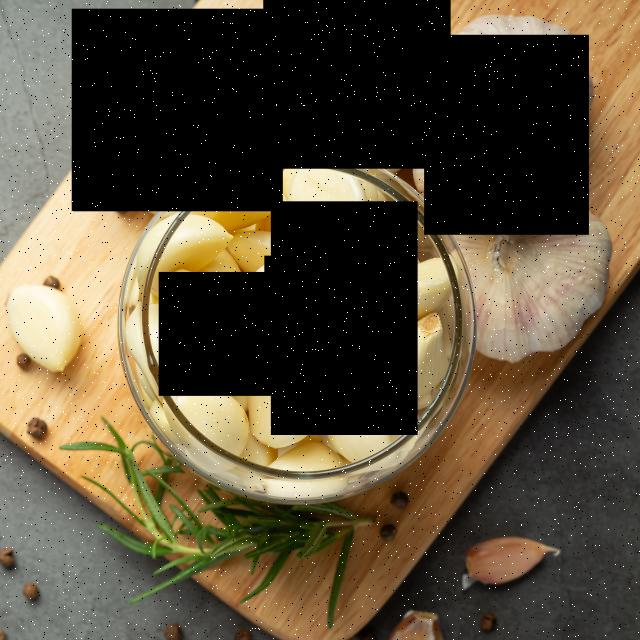Garlic: (72, 9, 283, 211), (271, 201, 418, 435), (424, 35, 589, 235), (263, 0, 451, 169), (159, 272, 289, 396), (264, 256, 370, 370)
